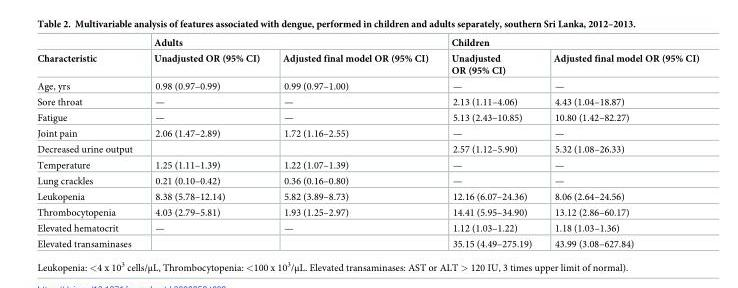table: (36, 37, 698, 248)
table column: (270, 37, 439, 248), (542, 37, 698, 248), (142, 37, 270, 248), (36, 37, 142, 248), (439, 37, 542, 248)
table column header: (36, 37, 698, 77)
table row: (36, 50, 698, 77), (36, 77, 698, 93), (36, 93, 698, 109), (36, 109, 698, 125), (36, 125, 698, 141), (36, 156, 698, 172), (36, 172, 698, 188), (36, 188, 698, 204), (36, 204, 698, 220), (36, 141, 698, 156), (36, 220, 698, 235), (36, 37, 698, 50), (36, 235, 698, 248)
table spanning cell: (36, 37, 142, 77), (142, 37, 439, 50), (439, 37, 698, 50)
